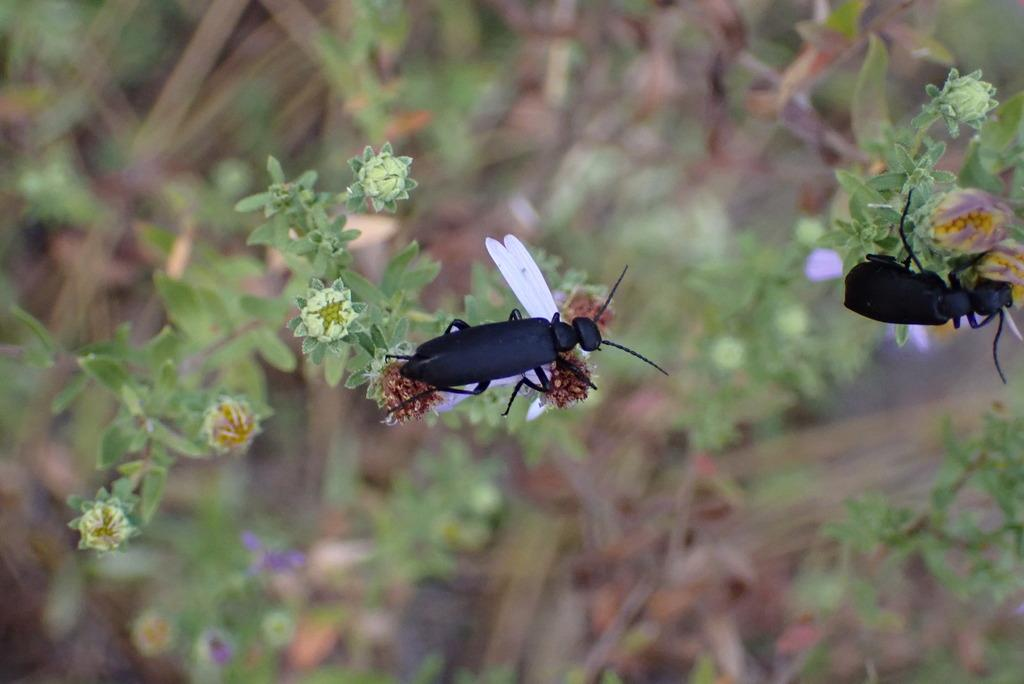blister_beetle: (343, 203, 693, 462)
